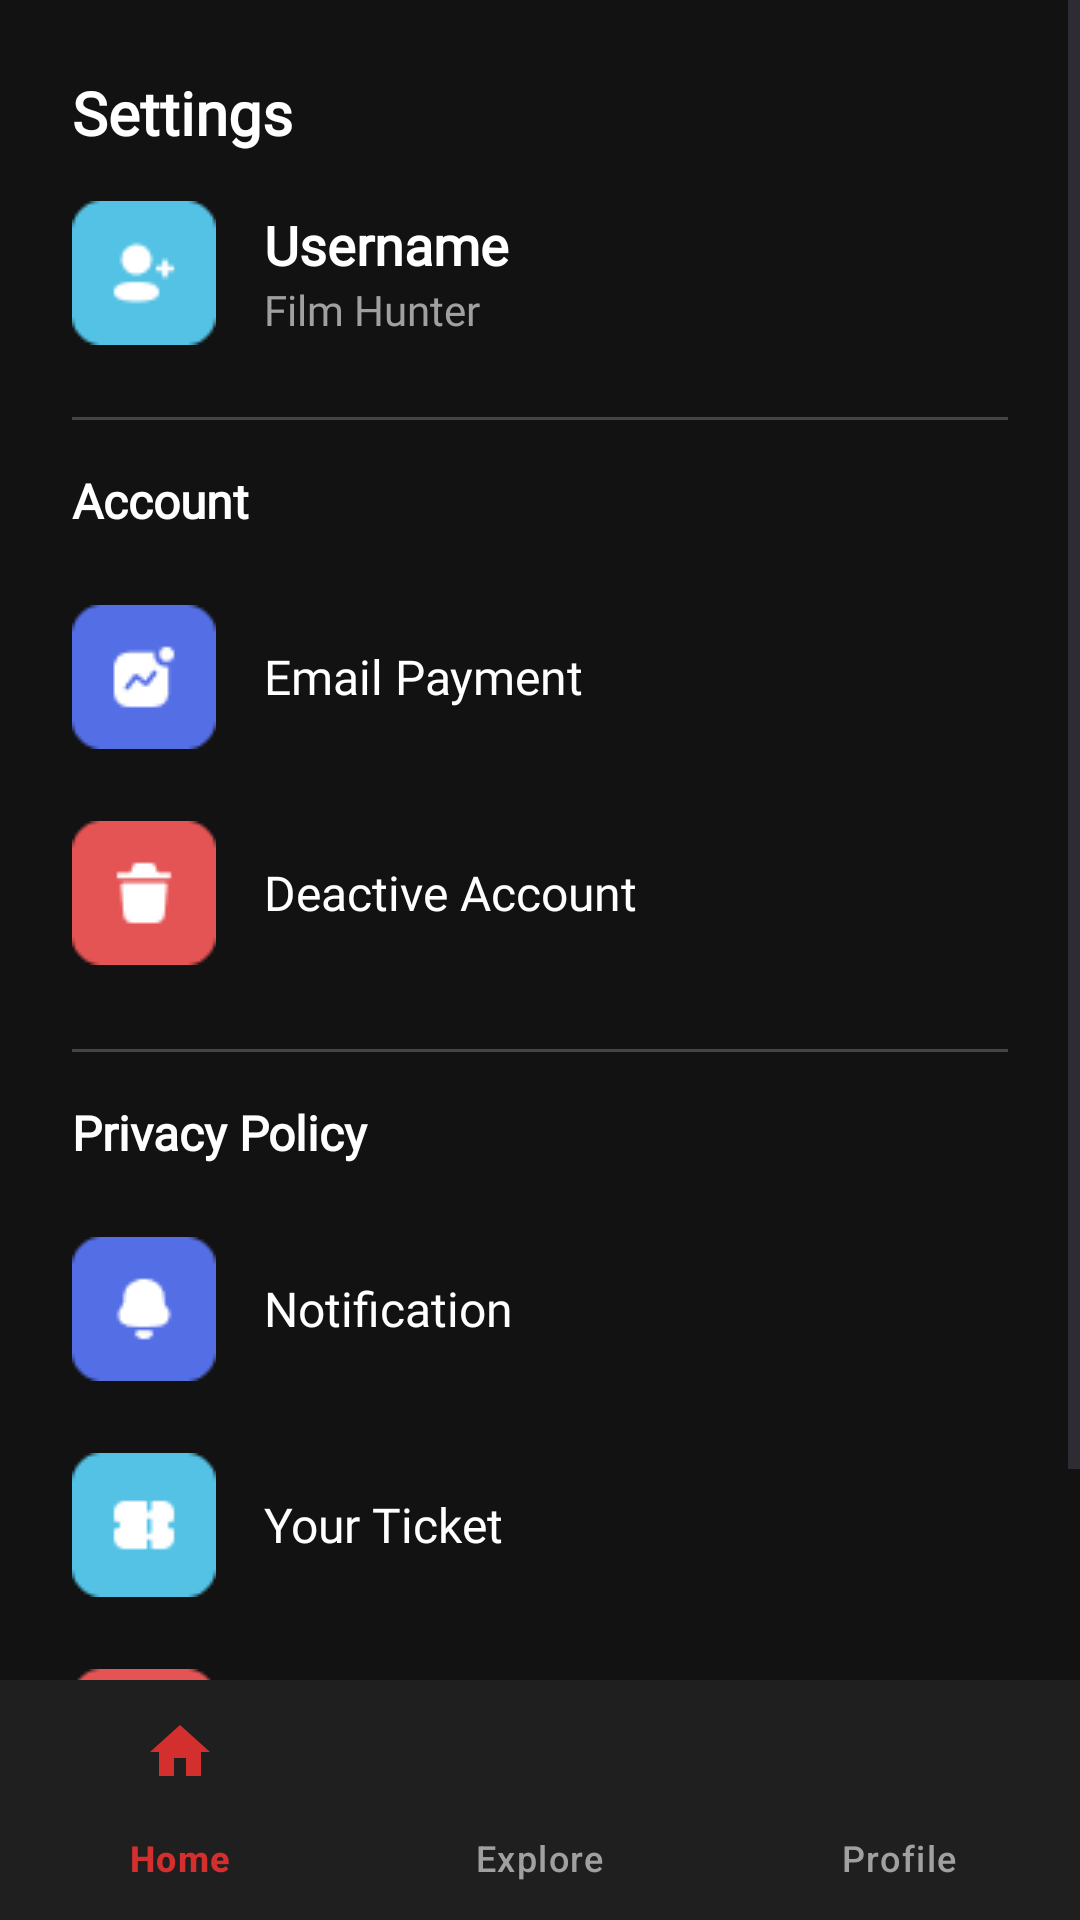

Screen size 1080px×1920px. Icon name, then its box in pixels as (x1,y1,x2,y2):
delete: (72,821,216,965)
profile: (72,201,216,345)
